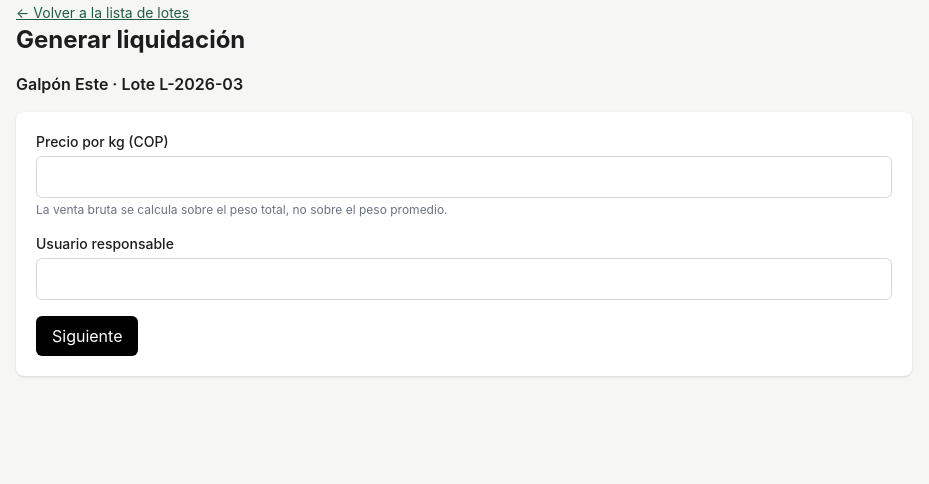
Test: GenerarLiquidacionPage › muestra el error de cada campo
Click the button "Siguiente": x=87, y=336 [36,316,138,356]
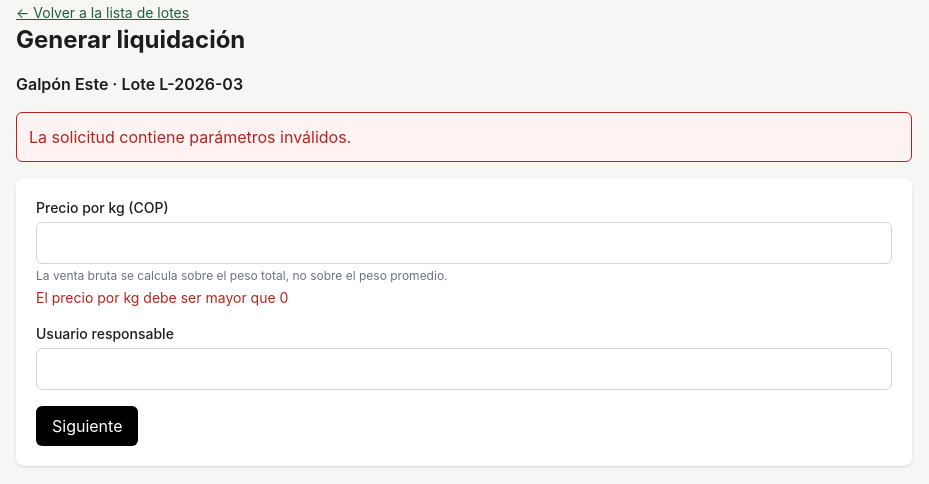
Result: the text "El precio por kg debe ser mayor que 0" is shown at [36,289,288,306]
